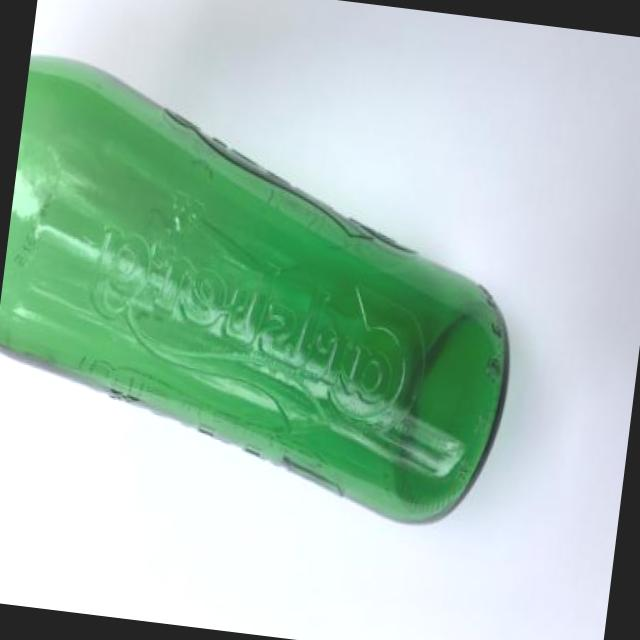chai_thuy_tinh: (0, 57, 510, 521)
